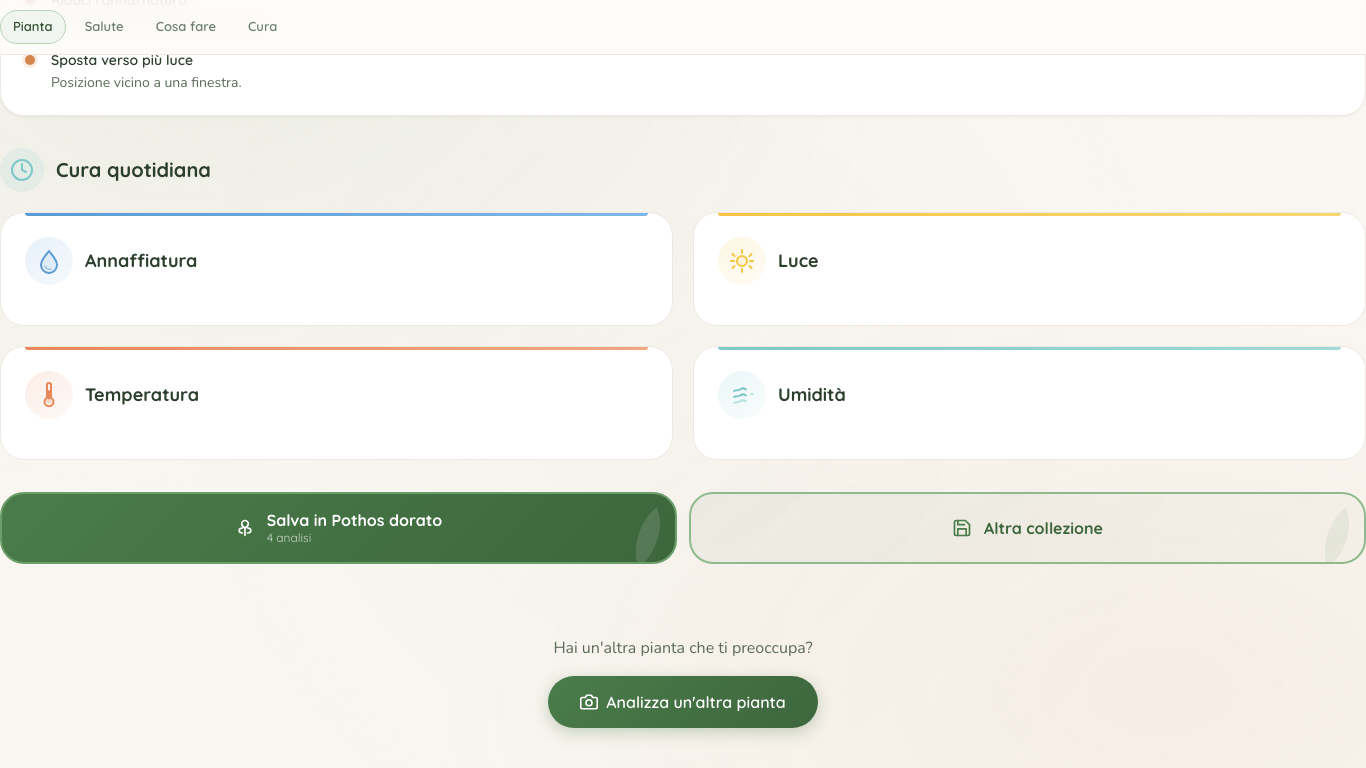
Test case: Flusso completo: selettore collezione con ricerca e salvataggio › filtra per nome scientifico
The image size is (1366, 768).
(page scrolled)
Step 1. Click the button "Altra collezione" → x=1028, y=528, box [689, 492, 1365, 564]
(page scrolled)
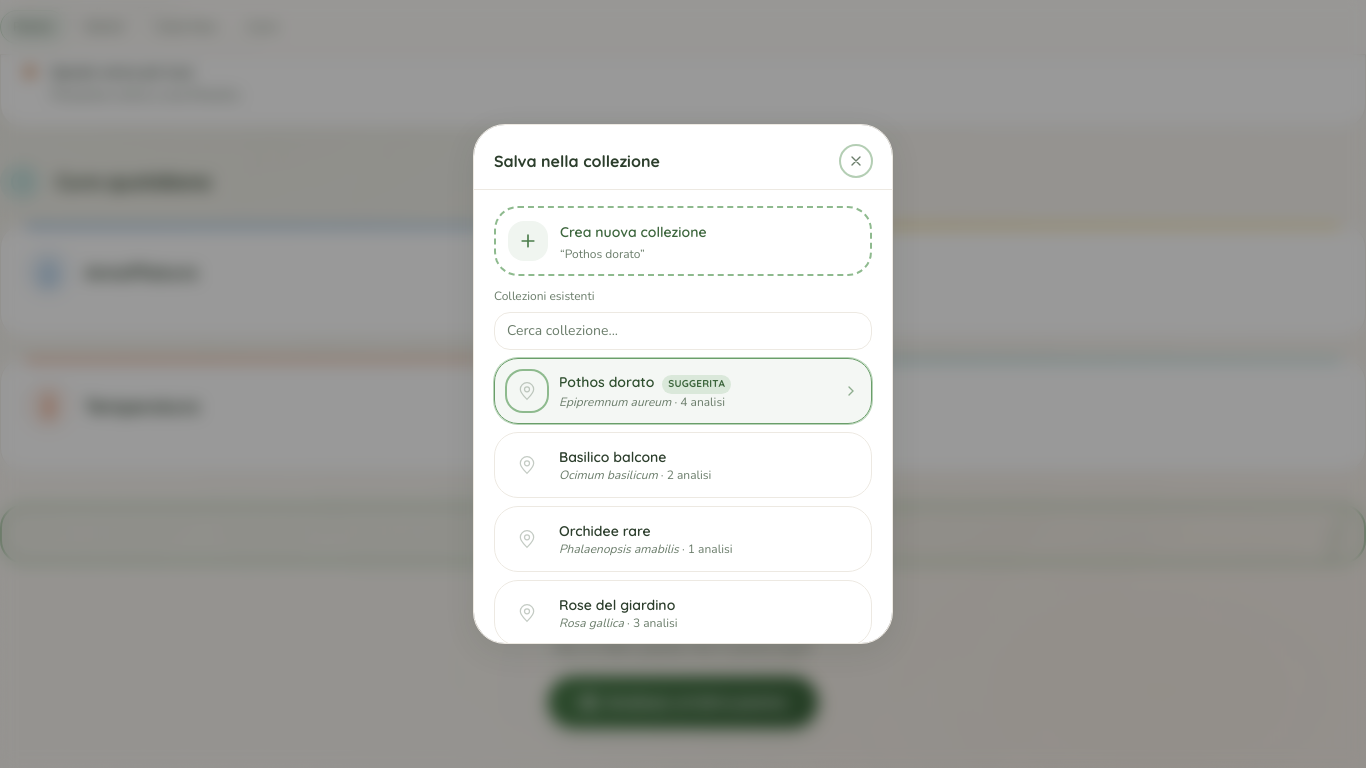
Check: the text "Collezioni esistenti" is shown, box [494, 288, 594, 304]
Step 2. Type "rosa gallica" into the field with placeholder "Cerca collezione..." → x=683, y=331, box [494, 312, 872, 350]
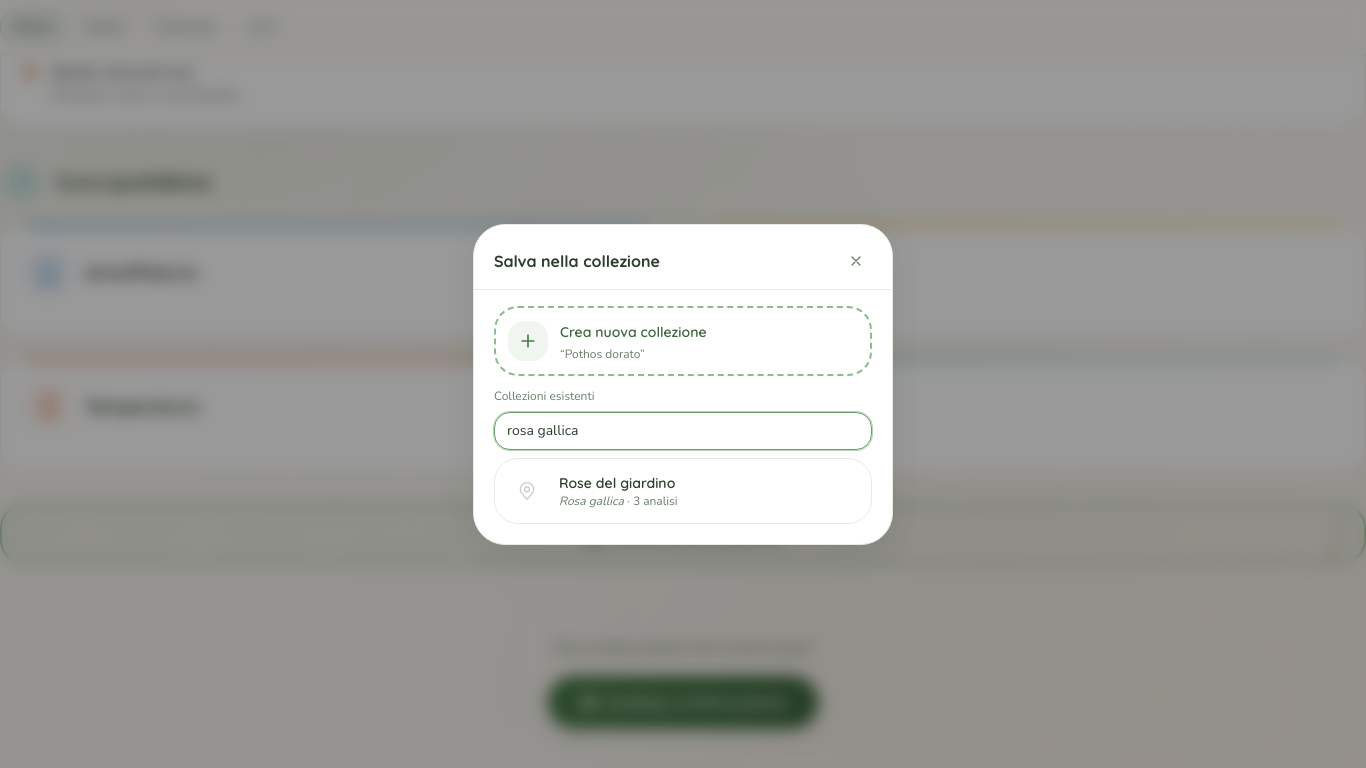
Check: the text "Rose del giardino" is shown, box [559, 474, 675, 492]
Check: the text "Rosa gallica" is shown, box [559, 492, 624, 508]
Check: the button "Basilico balcone" is gone
